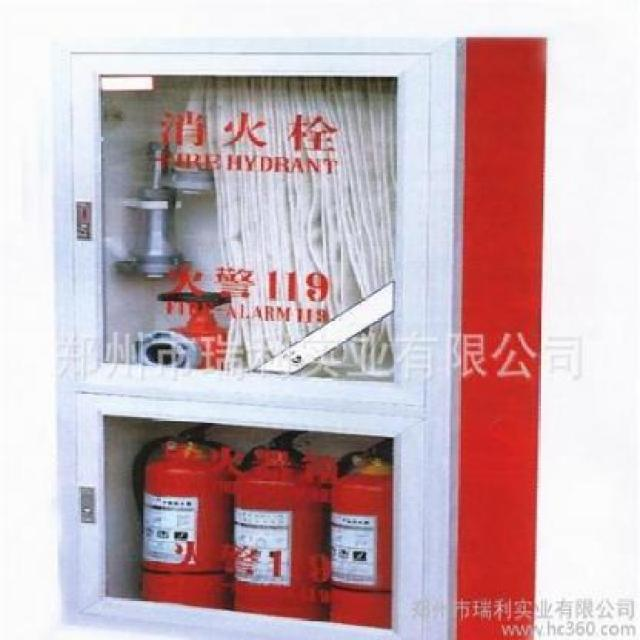firehydrant: (45, 23, 553, 639)
